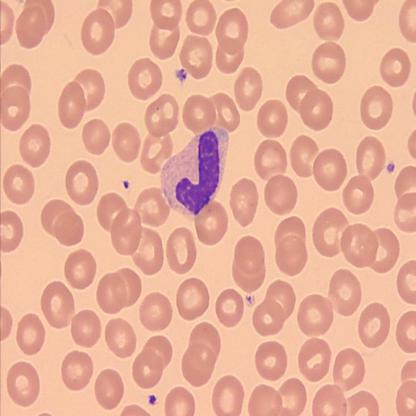Band Neutrophil: (158, 122, 231, 221)
